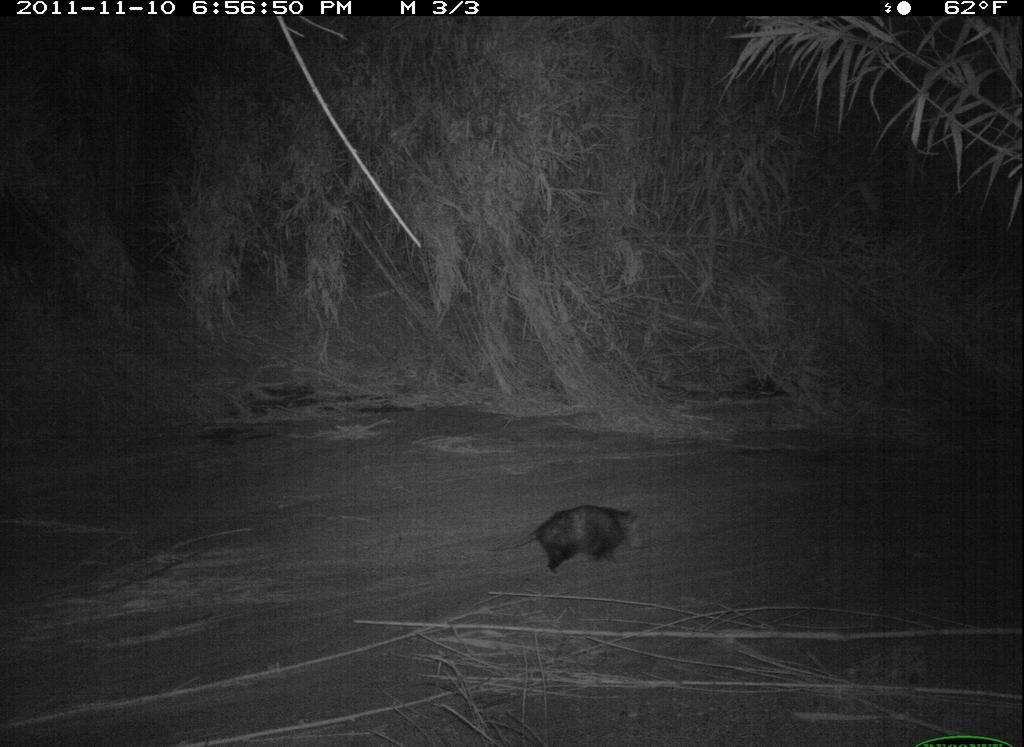opossum: (482, 498, 652, 584)
